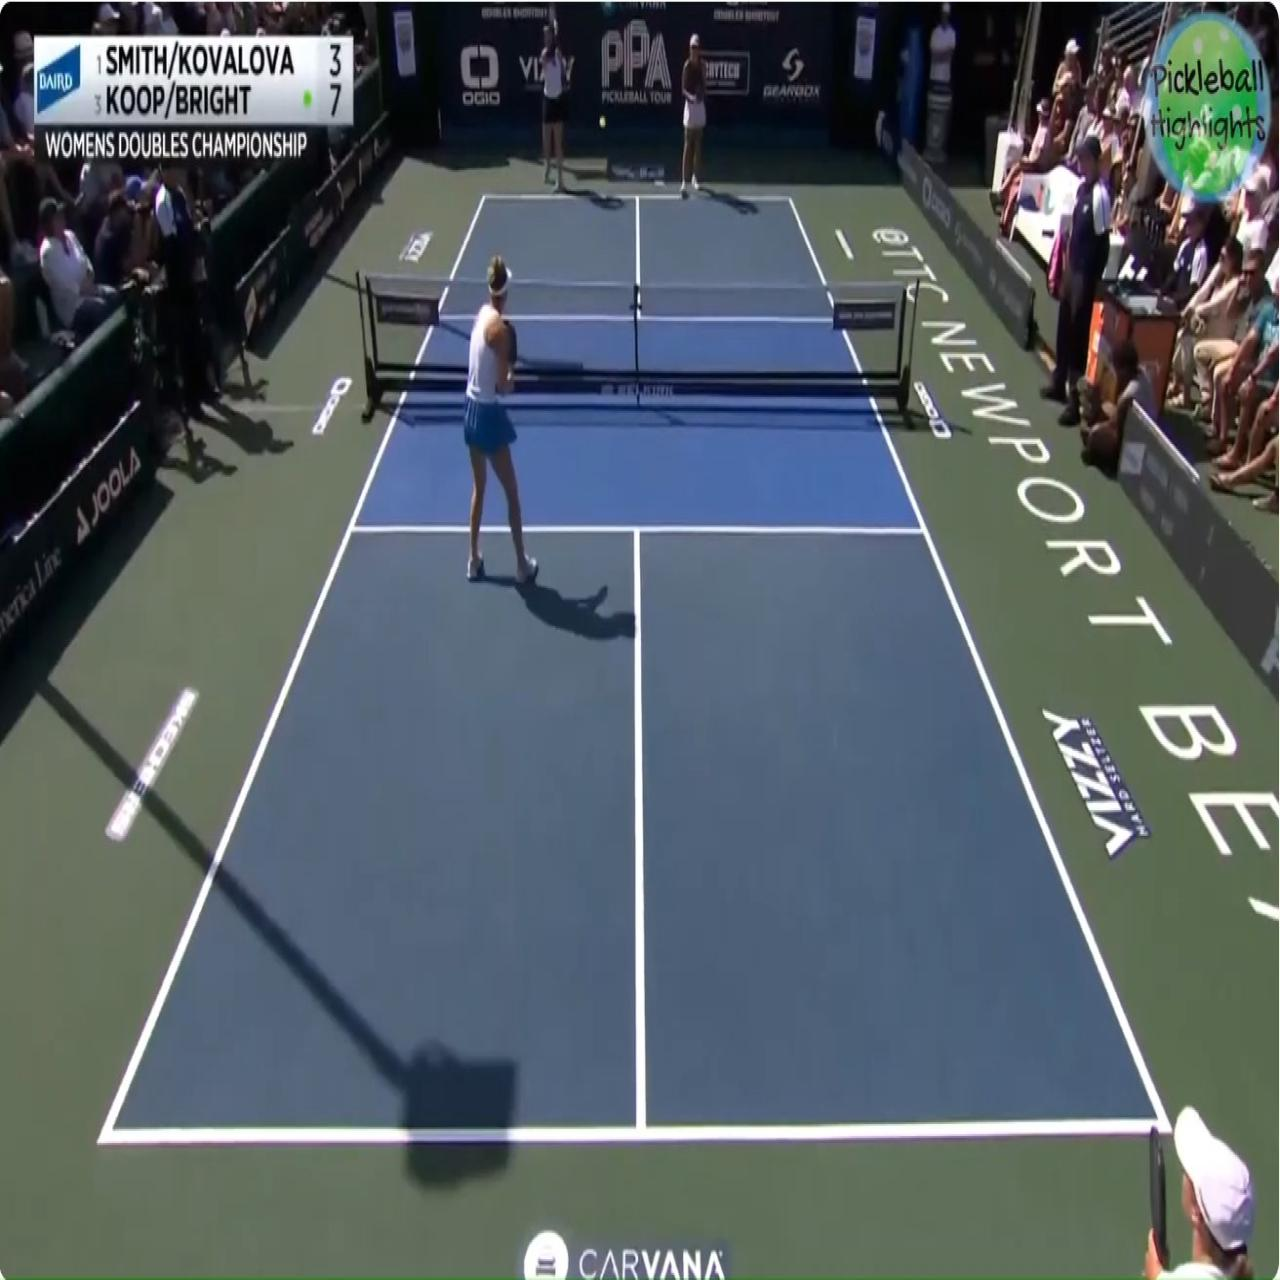pickleball: (599, 115, 606, 129)
